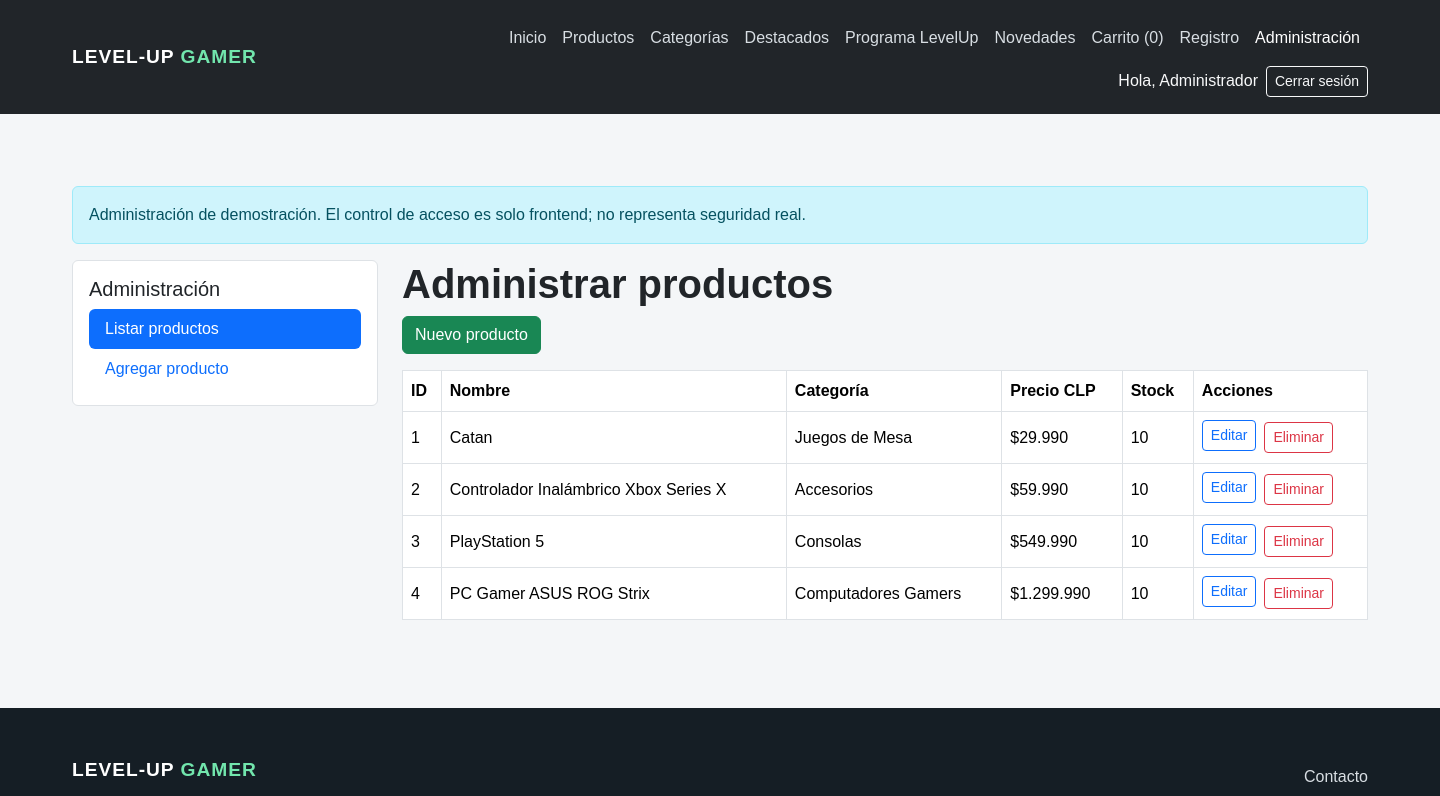
Test: fallo de almacenamiento durante eliminación conserva catálogo y muestra error
The image size is (1440, 796).
Click the button with aria-label "Eliminar Catan": (1299, 438) [1264,422,1333,453]
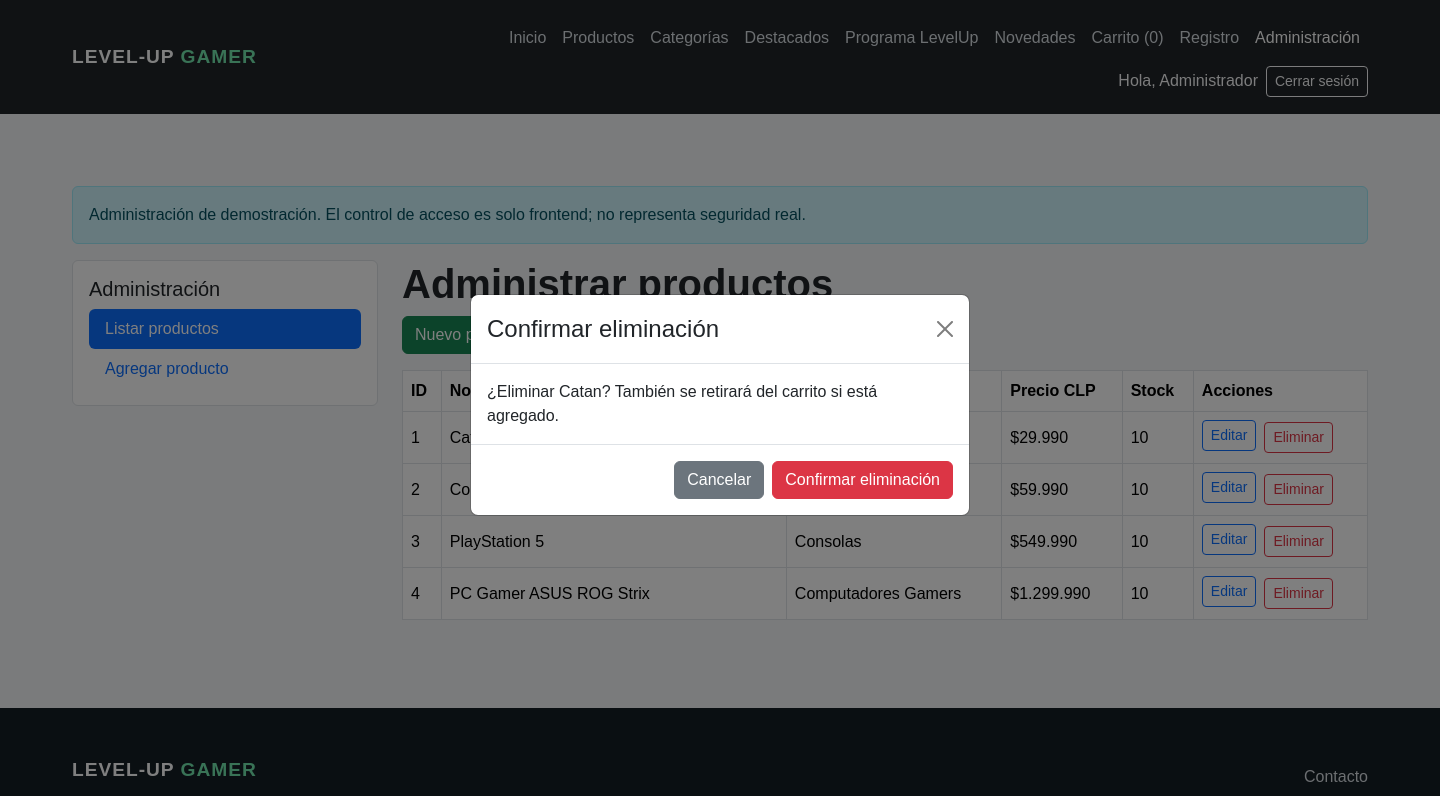
Click the button "Confirmar eliminación": (863, 480) [772,461,953,499]
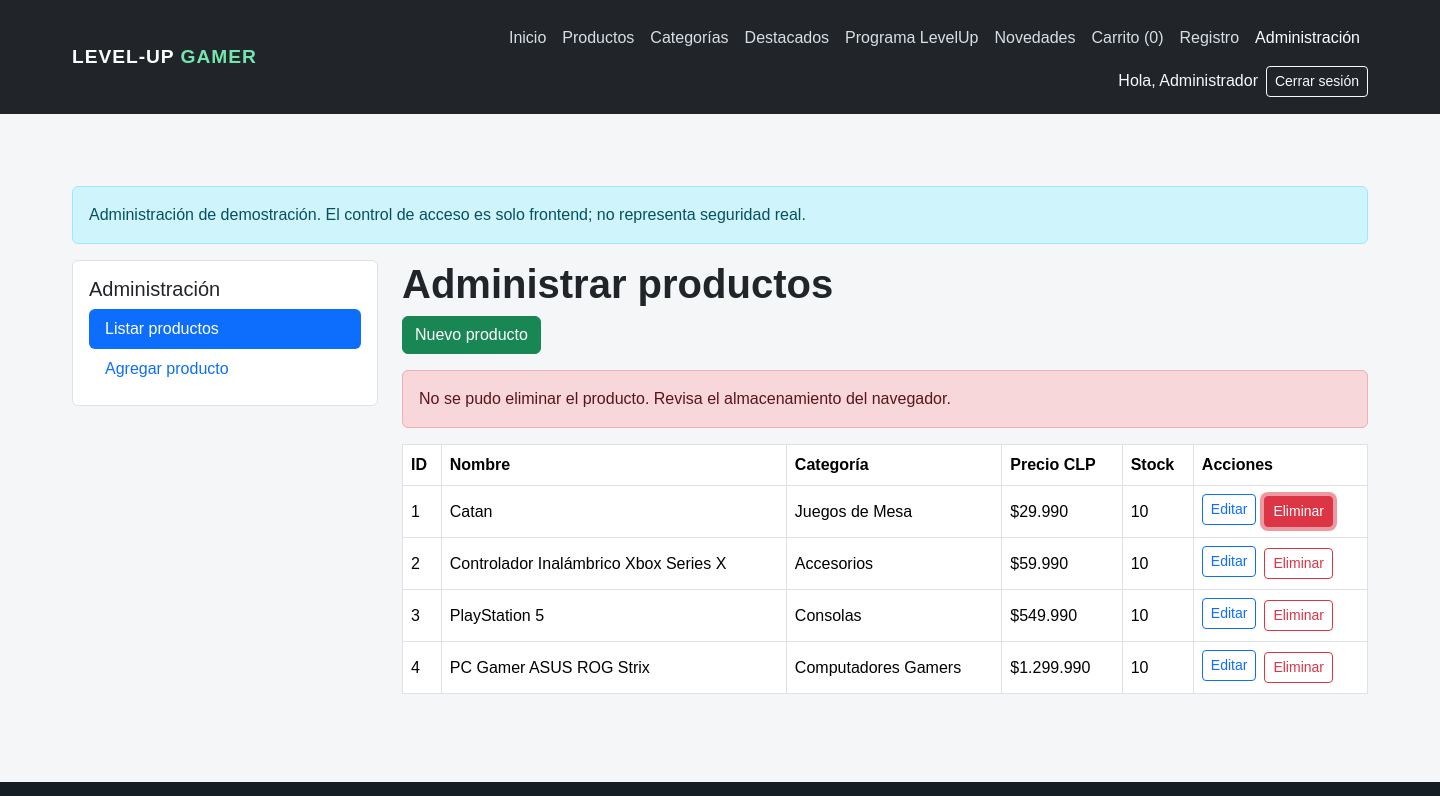
Expected: the button with aria-label "Eliminar Catan" is shown, [1264,496,1333,527]
Expected: the text "No se pudo eliminar el producto. Revisa el almacenamiento del navegador." is shown, [402,370,1368,428]
